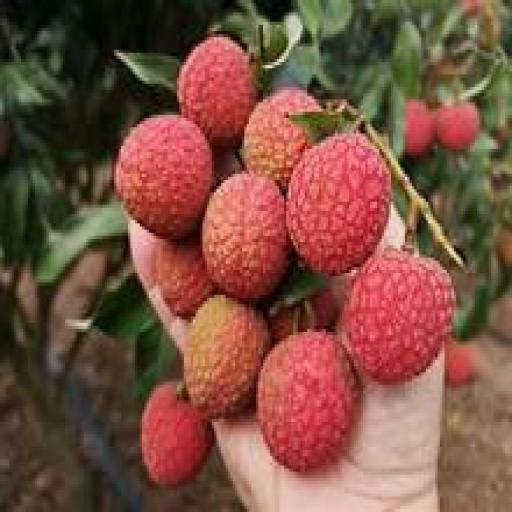lychee: (286, 134, 389, 276), (342, 249, 452, 381), (256, 329, 357, 471), (114, 115, 210, 238), (202, 174, 287, 300), (183, 295, 268, 418), (176, 35, 255, 145), (242, 87, 320, 189), (139, 382, 213, 487), (153, 236, 213, 316), (267, 286, 338, 341), (435, 103, 480, 152), (444, 339, 483, 387), (404, 100, 434, 158), (495, 227, 511, 269), (460, 0, 483, 15)
